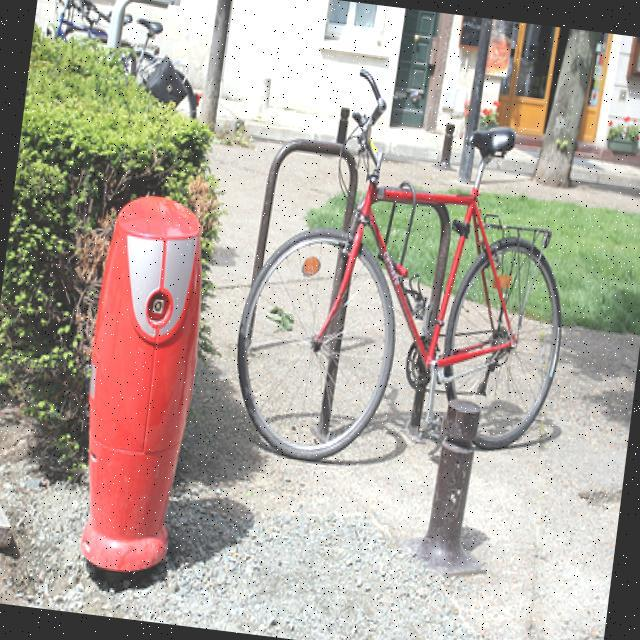fire_hydrant: (63, 188, 219, 580)
